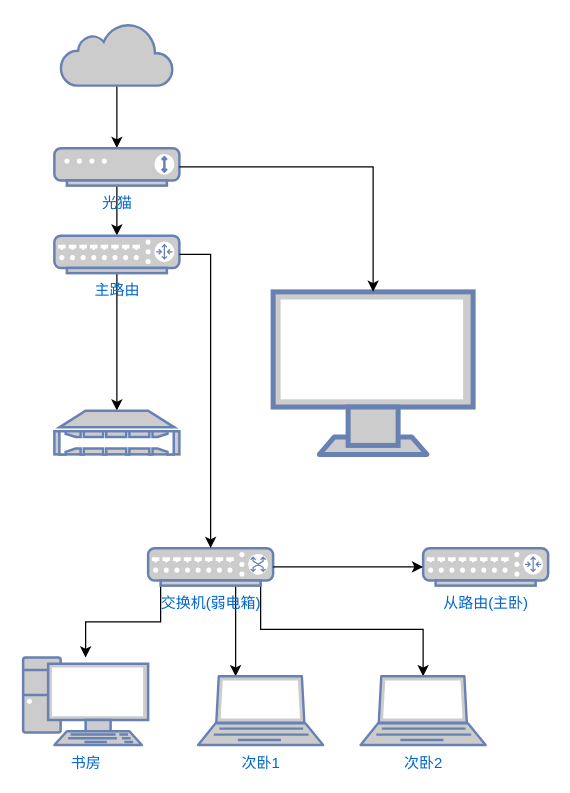
Image size: 570x793. Some labels were removed from this diagram. Here are the shapes that lost their labels. From the top down, the centre of each, then its label:
At [116,53]: "互联网".
At [372,372]: "电视".
At [116,432]: "NAS".
